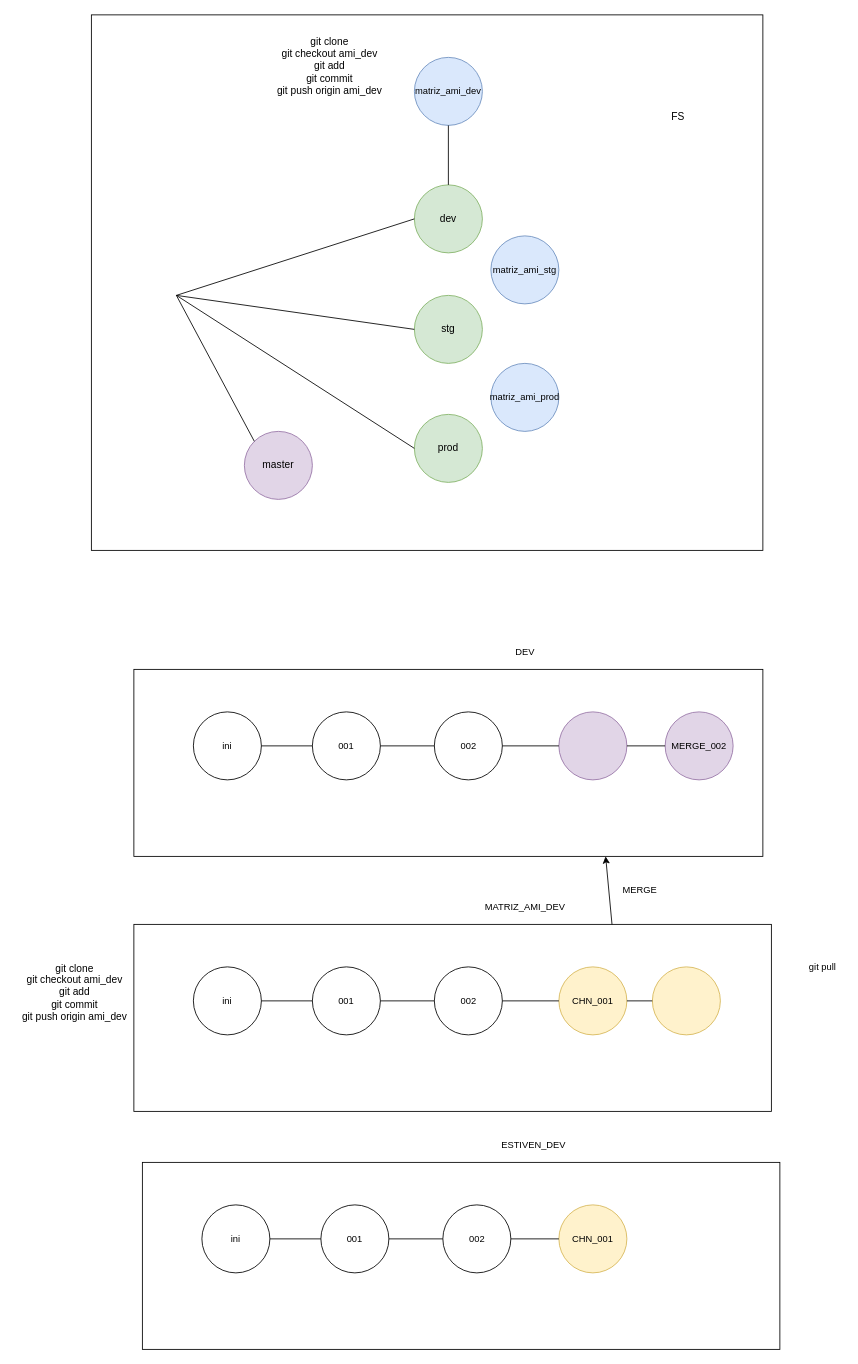
Some shapes in this 858 by 1364 pixel diagram are drawn without their labels. Here are the shapes that lost their labels. From the top down, the centre of each, then its label:
[592,745]: MERGE_001
[686,1000]: CHN_002
